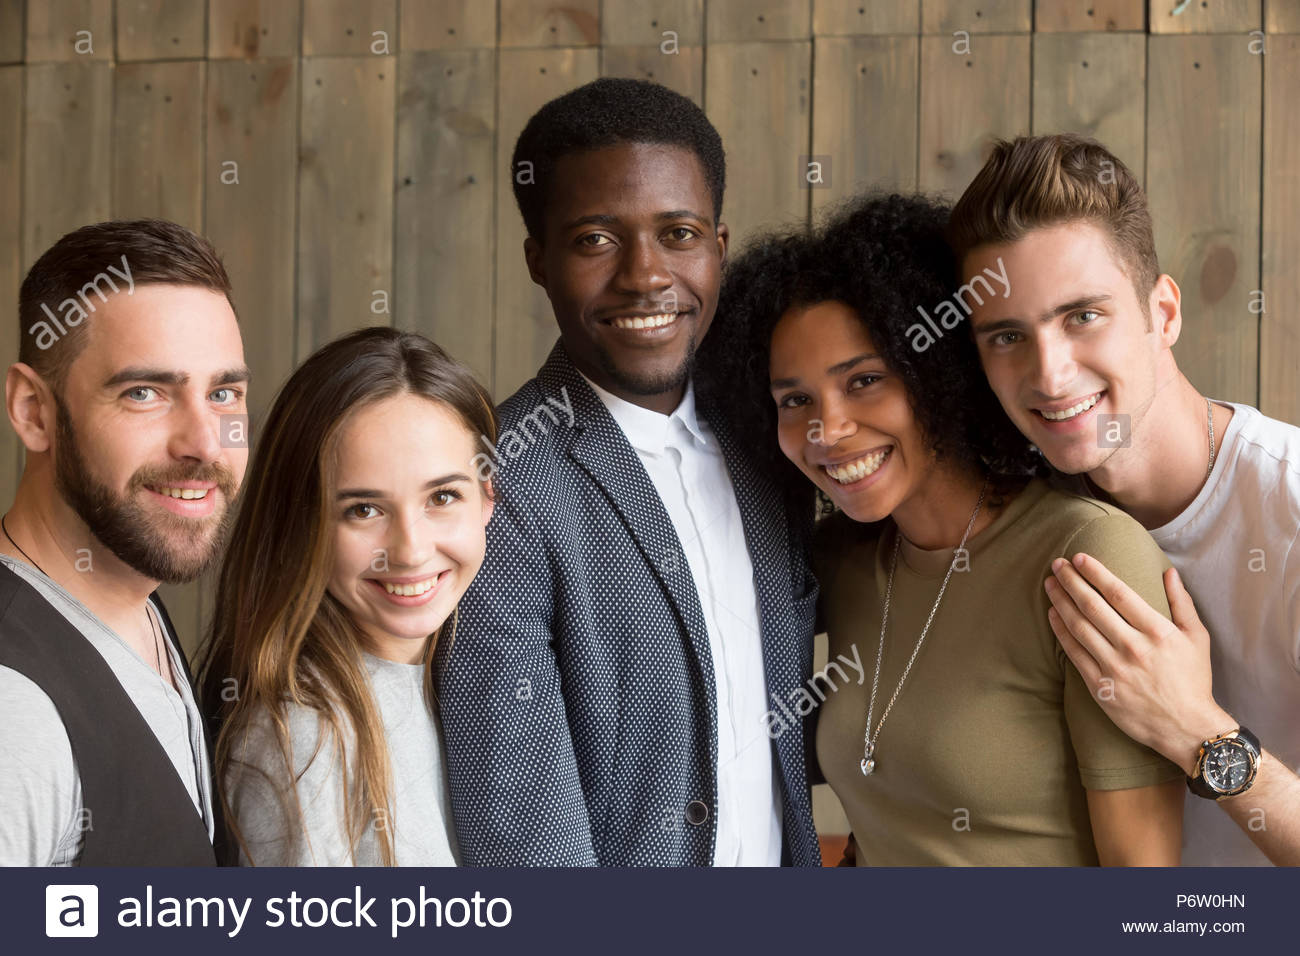person: (935, 105, 1300, 627), (731, 230, 1111, 685), (232, 288, 508, 797), (473, 103, 777, 478), (13, 182, 255, 644)
